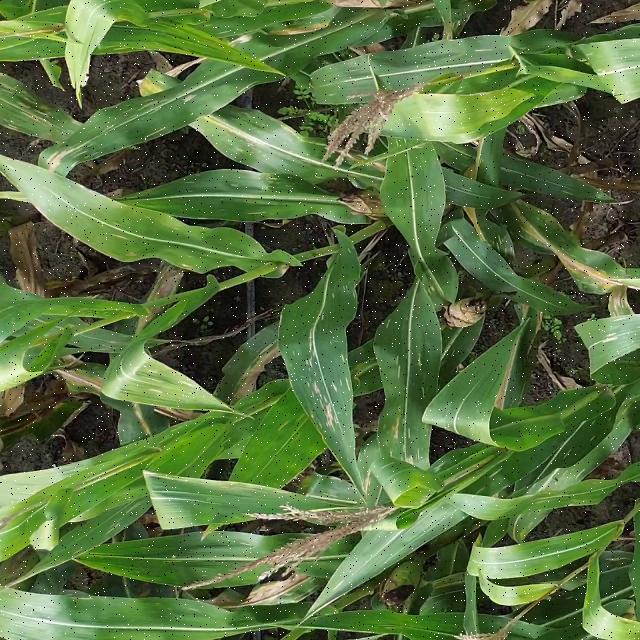gray-leaf-spot: (285, 251, 385, 466), (0, 81, 219, 176), (374, 293, 464, 478), (502, 393, 632, 521), (106, 468, 294, 540), (18, 296, 169, 372), (166, 163, 319, 229), (90, 206, 212, 268), (117, 356, 214, 420), (592, 296, 640, 370)
southern-leaf-blight: (471, 198, 640, 313), (181, 105, 363, 170)
